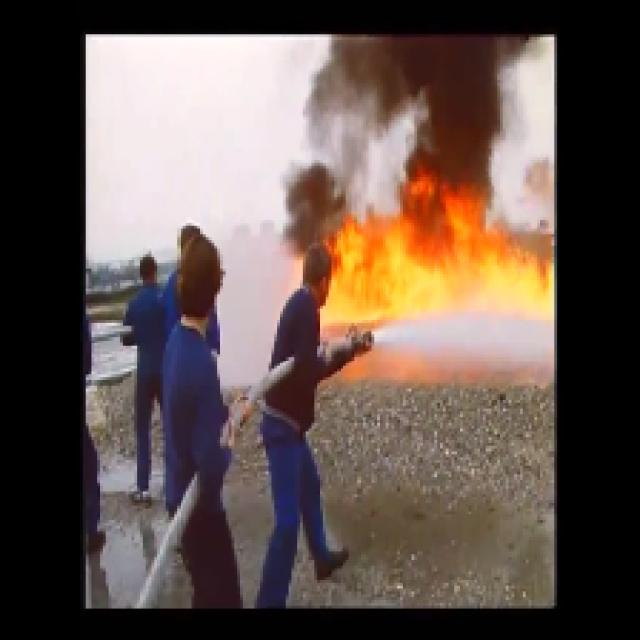fire: (351, 222, 539, 299)
smoke: (343, 36, 494, 123)
